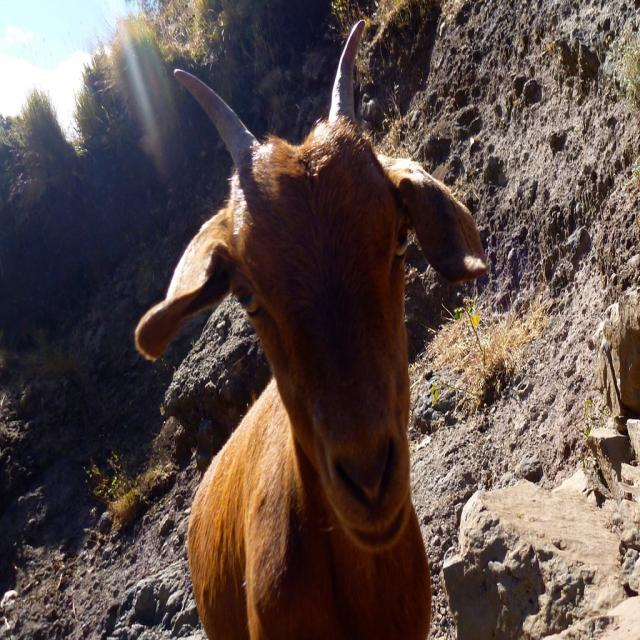Goat: (136, 18, 490, 640)
